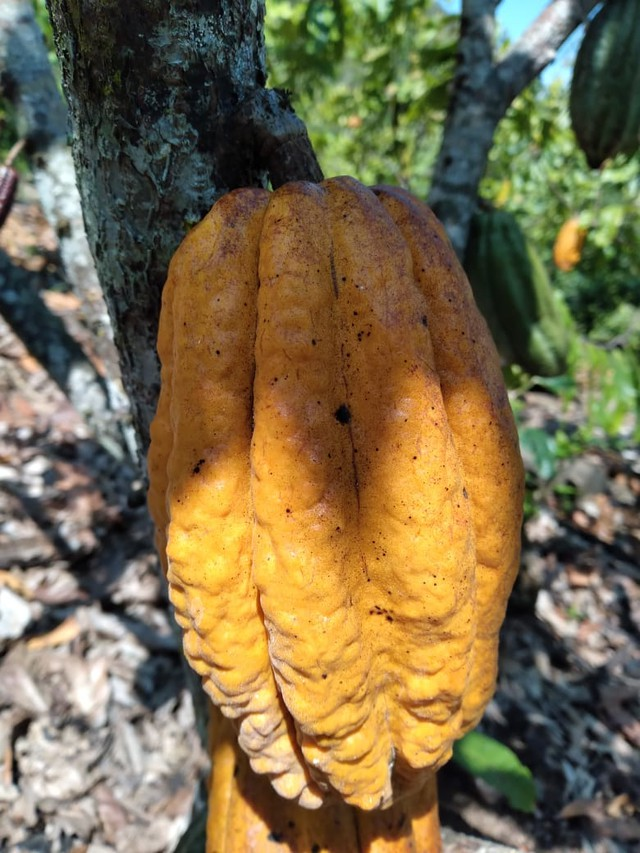Health: (142, 163, 535, 815)
